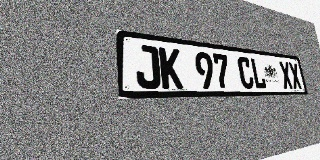7: (211, 53, 232, 89)
9: (194, 51, 216, 89)
C: (237, 56, 255, 89)
J: (134, 44, 161, 89)
K: (159, 47, 183, 89)
L: (250, 58, 267, 89)
X: (278, 61, 293, 89), (288, 62, 302, 89)
